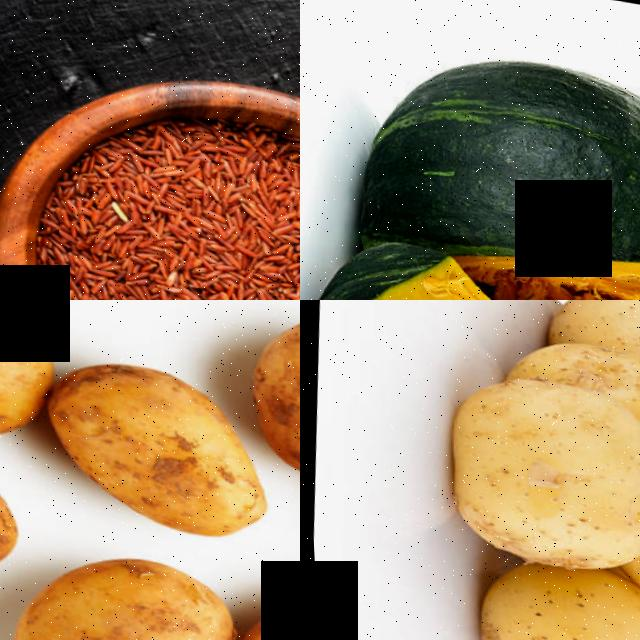potato: (38, 344, 271, 536), (437, 361, 640, 577), (0, 530, 239, 640), (461, 546, 640, 640), (0, 300, 62, 445), (252, 300, 300, 476), (534, 300, 640, 362)
pumpkin: (342, 24, 640, 300), (300, 222, 640, 300)
red rice: (48, 98, 300, 300)
